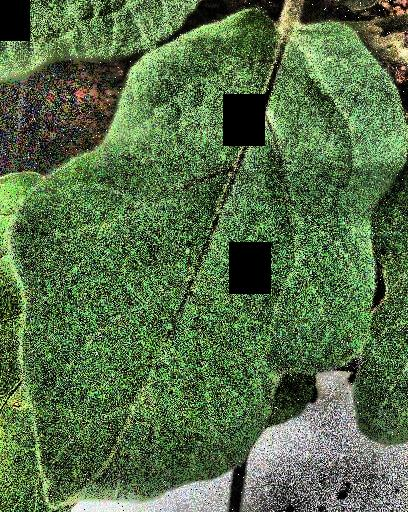HEALTHY: (1, 1, 408, 512)
